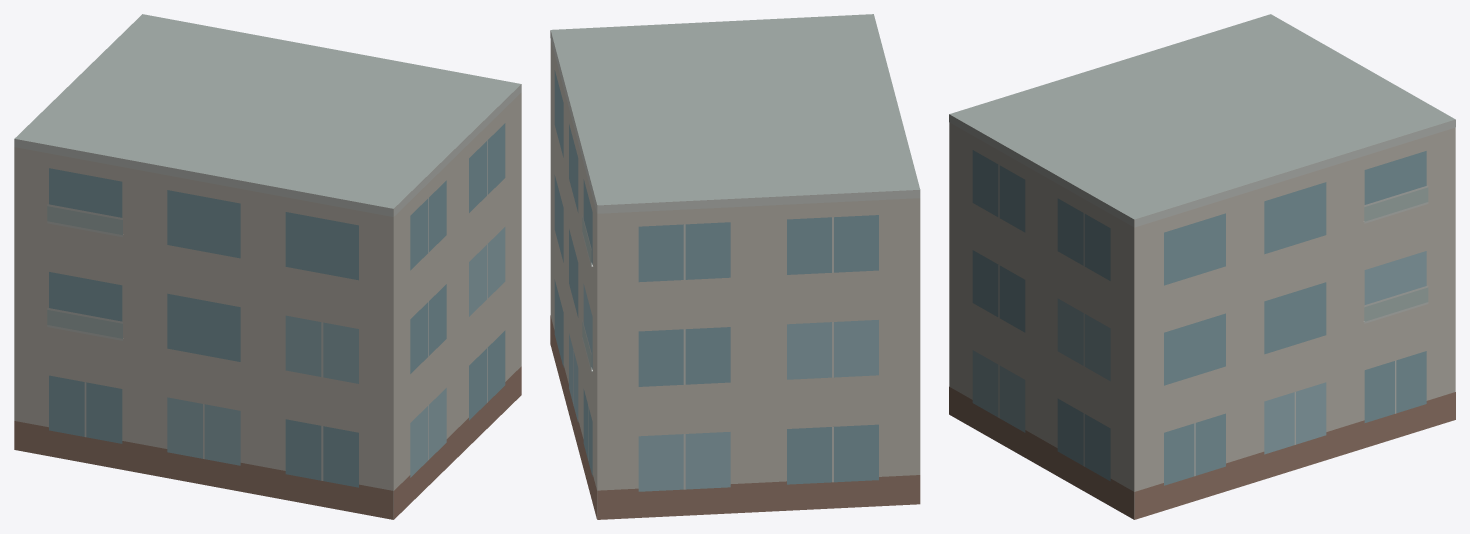
The model's file is survey-upis-32778292.glb.
3 views of the same model, side by side, from view 1: azimuth 30°, elevation 25°; view 2: azimuth 150°, elevation 25°; view 3: azimuth 270°, elevation 25° (orthographic). The views are drawn at different scales.
Parts seen in each view (by area): view 1: survey-upis-32778292.tmp; view 2: survey-upis-32778292.tmp; view 3: survey-upis-32778292.tmp.
Part boxes in pixels (<box>): survey-upis-32778292.tmp: <box>14,14,521,519</box>; survey-upis-32778292.tmp: <box>550,14,920,519</box>; survey-upis-32778292.tmp: <box>949,14,1455,519</box>.
Bounding box in the file's own units: 13.44 × 9.15 × 14.
